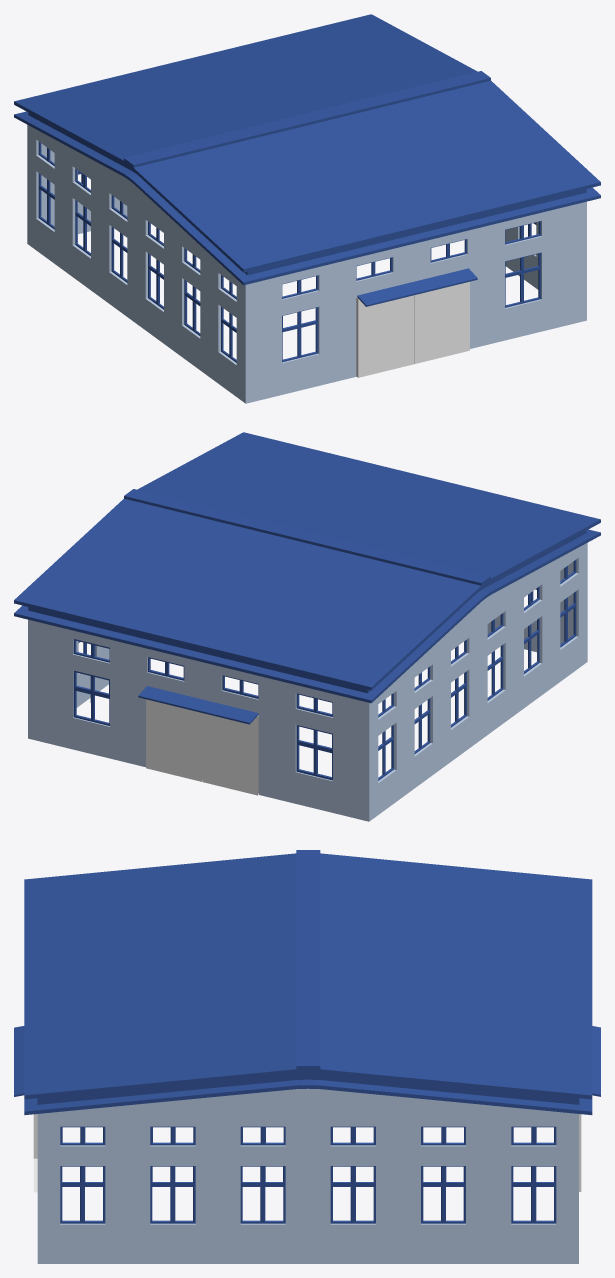
File: 综合仓库.glb
The picture shows the model from 3 angles, top to bottom: view 1: azimuth 30°, elevation 25°; view 2: azimuth 150°, elevation 25°; view 3: azimuth 270°, elevation 25°; orthographic projection. The views are drawn at different scales.
Parts seen in each view (by area): view 1: 立方体.3_17.001; view 2: 立方体.3_17.001; view 3: 立方体.3_17.001.
Boxes of the visible parts, <box> form: 立方体.3_17.001: <box>14,14,600,403</box>; 立方体.3_17.001: <box>14,432,600,821</box>; 立方体.3_17.001: <box>14,850,600,1263</box>.
Size of the model in its own units: 814 by 357 by 935.
